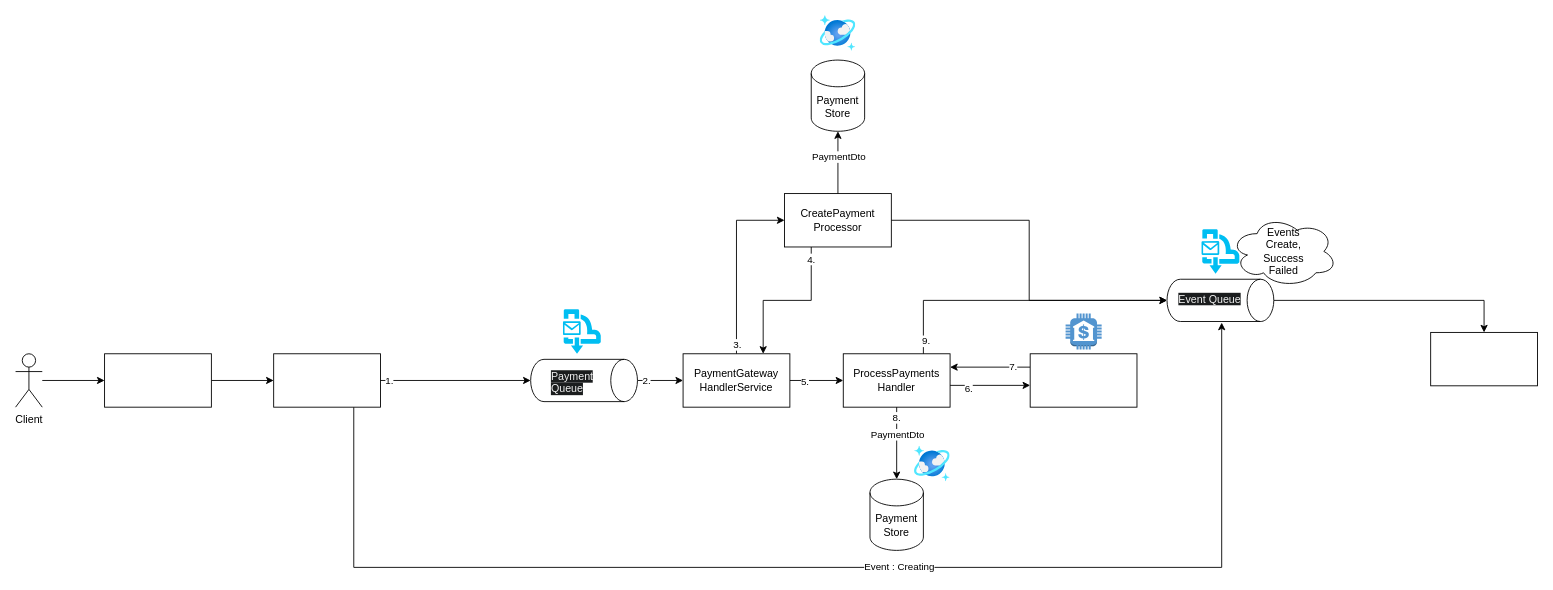
The diagram is 1553 pixels wide and 590 high, and some of its shapes have lost their labels. Here are the shapes that lost their labels. From the top down, the centre of each, then its label:
At (x=1483, y=359): "Event Processor".
At (x=157, y=380): "Merchant API Gateway".
At (x=326, y=380): "Payment Request Handler".
At (x=1083, y=380): "Acquirer API".
